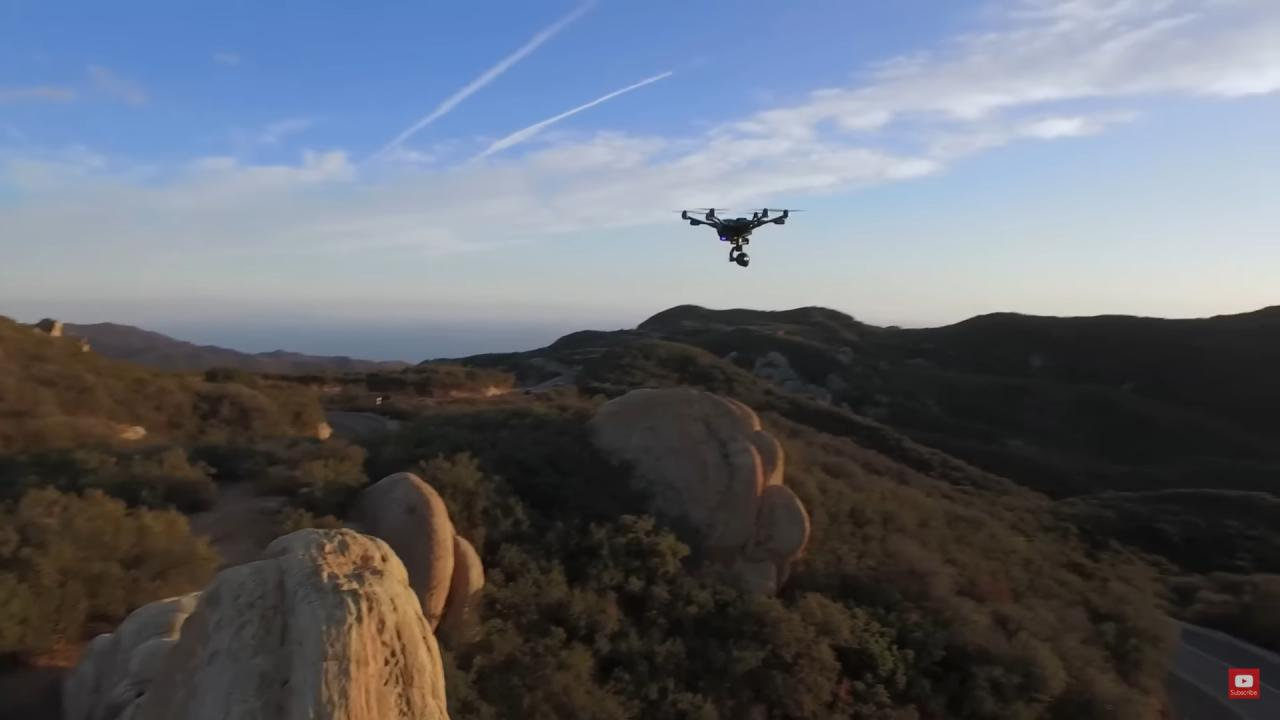Drone: (666, 194, 813, 276)
